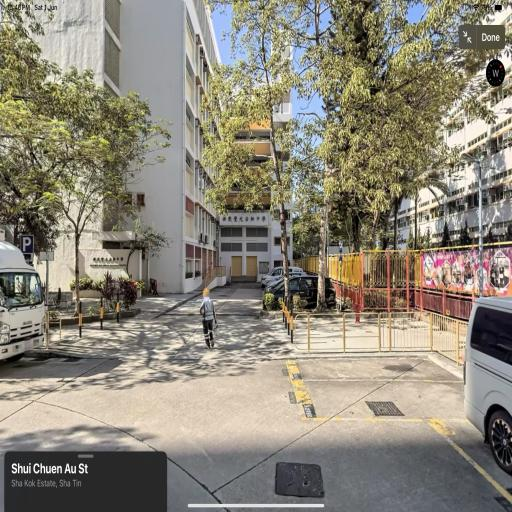Roads: (17, 277, 511, 492)
Trees: (4, 11, 149, 348), (200, 11, 326, 367), (337, 10, 456, 262)
